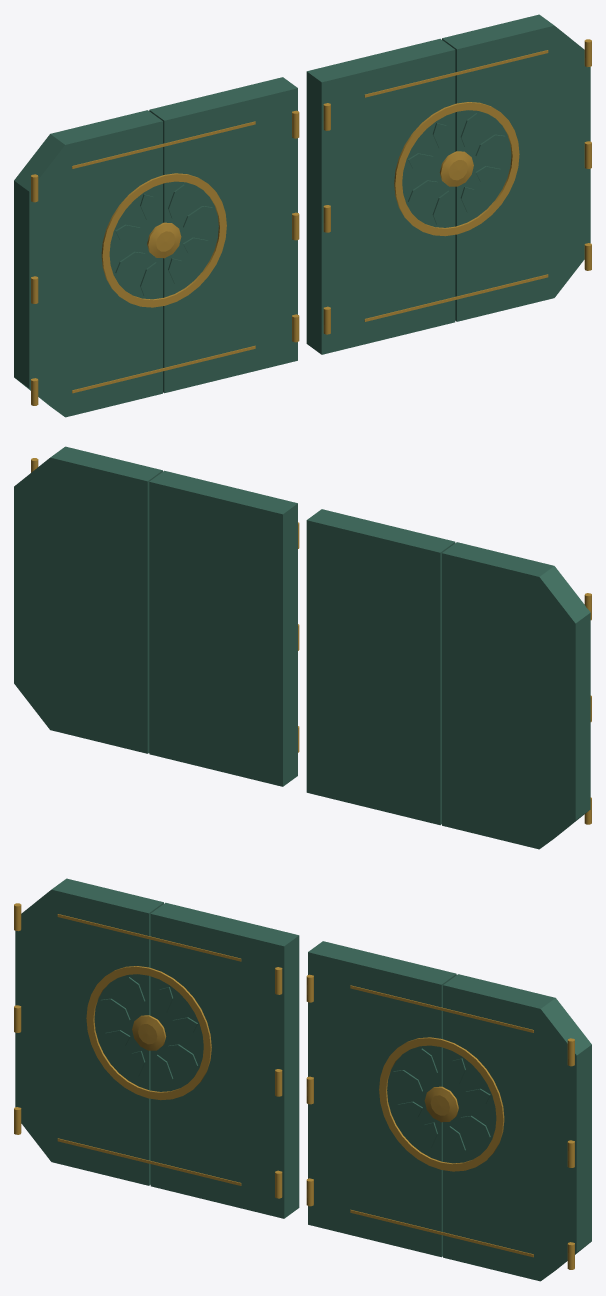
File: hangar2_doors.obj
The picture shows the model from 3 angles, top to bottom: view 1: azimuth 30°, elevation 25°; view 2: azimuth 150°, elevation 25°; view 3: azimuth 330°, elevation 25°; orthographic projection.
Visible parts, largest first — view 1: hangar2_doors; view 2: hangar2_doors; view 3: hangar2_doors.
Boxes of the visible parts, left/top/right/bottom form: hangar2_doors: left=14, top=14, right=591, bottom=417; hangar2_doors: left=14, top=446, right=591, bottom=849; hangar2_doors: left=14, top=878, right=591, bottom=1281.
Size of the model in its own units: 8.54 by 3.96 by 0.4895.
